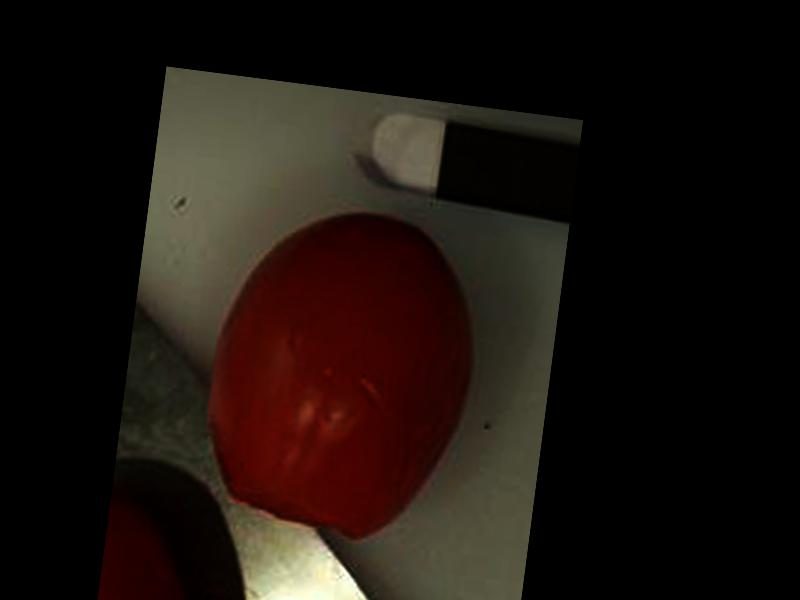Tomato: (191, 195, 489, 549)
